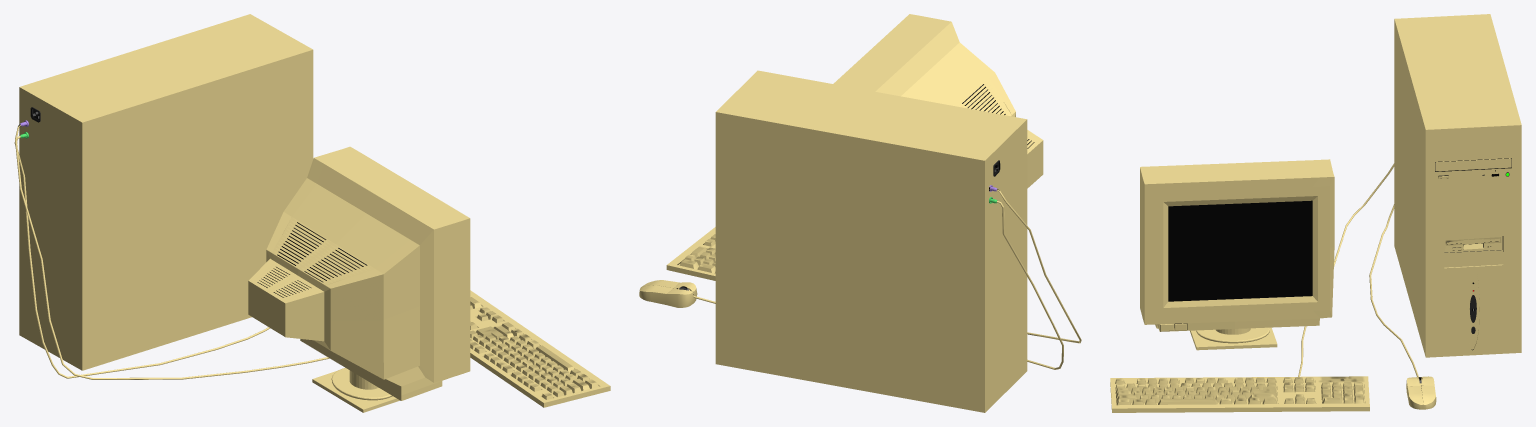
File: OLD PC1.fbx
The picture shows the model from 3 angles, left to right: view 1: azimuth 30°, elevation 25°; view 2: azimuth 150°, elevation 25°; view 3: azimuth 270°, elevation 25°; orthographic projection. The views are drawn at different scales.
Visible parts, largest first — view 1: old pc; view 2: old pc; view 3: old pc.
Boxes of the visible parts, x1,y1,x2,y2 form: old pc: [14, 14, 610, 412]; old pc: [639, 14, 1081, 412]; old pc: [1110, 14, 1521, 412].
Size of the model in its own units: 90.41 by 52.09 by 85.15.
